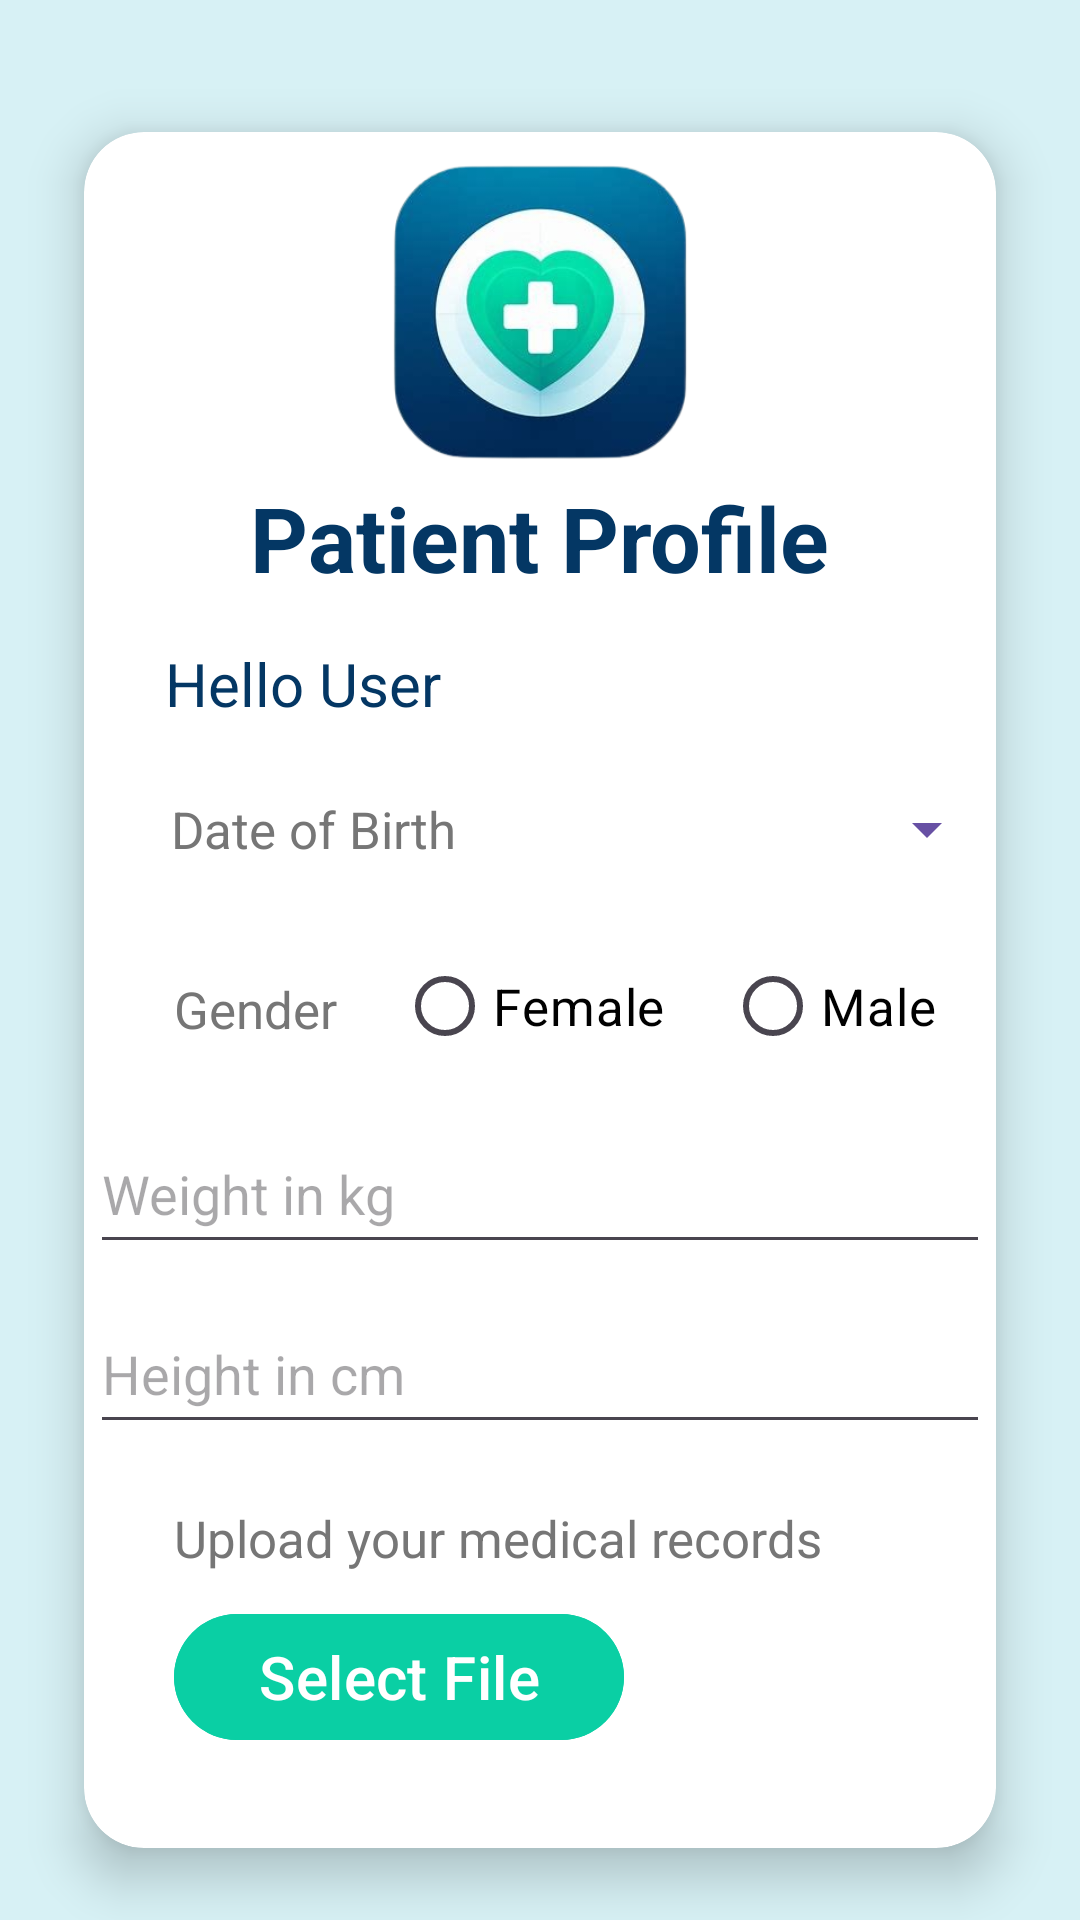

Screen size 1080x1920. Icon name, then its box in pixels as (x1, y1, x2, y2):
app: (394, 166, 687, 459)
